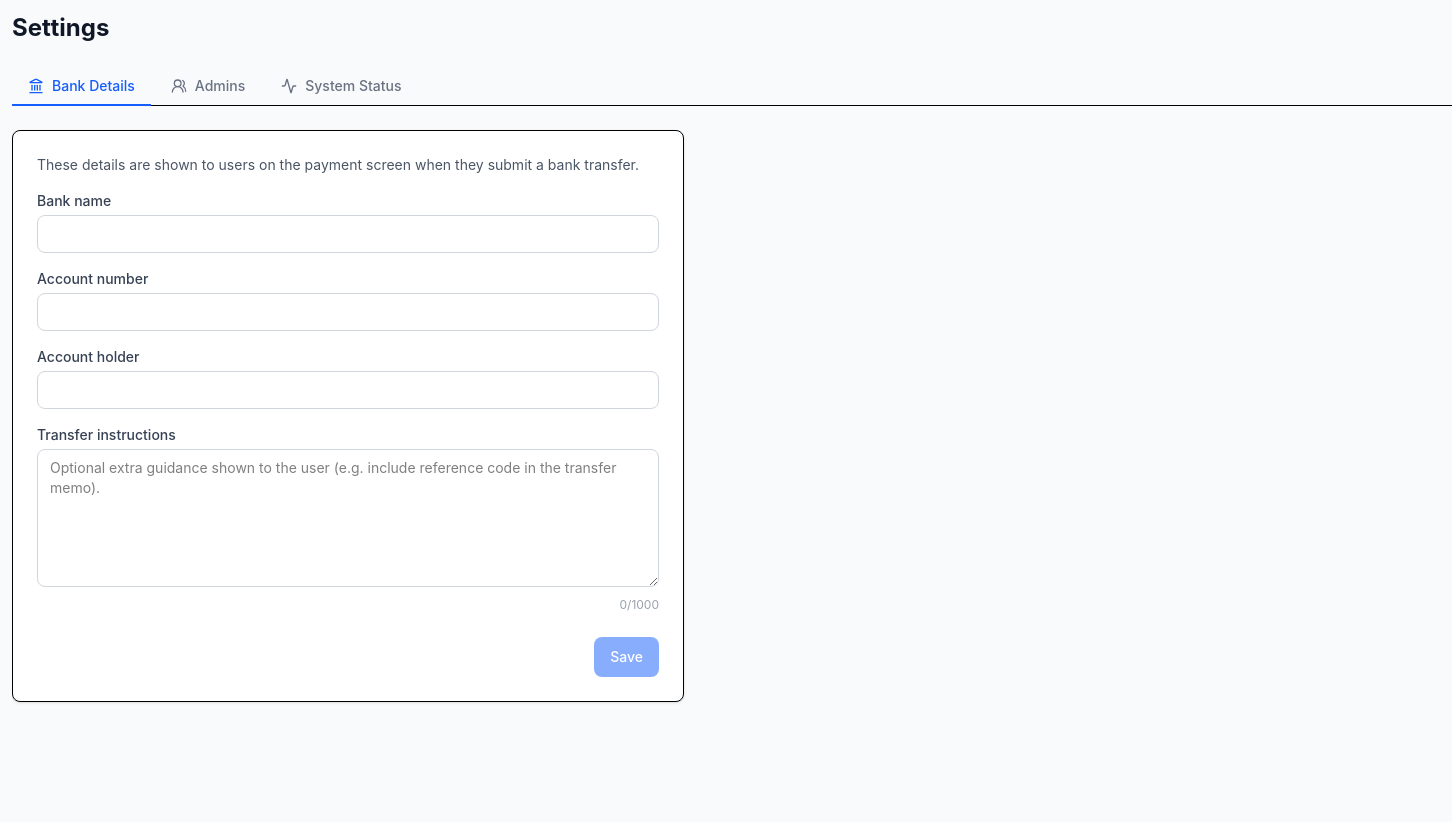
SettingsPage — FreeRADIUS card › omits the RADIUS line for an older backend without the probe
What coordinates should you click on to do the following:
click the button "System Status"
I would click on:
 (341, 87)
Its box is [265,68,418,106].
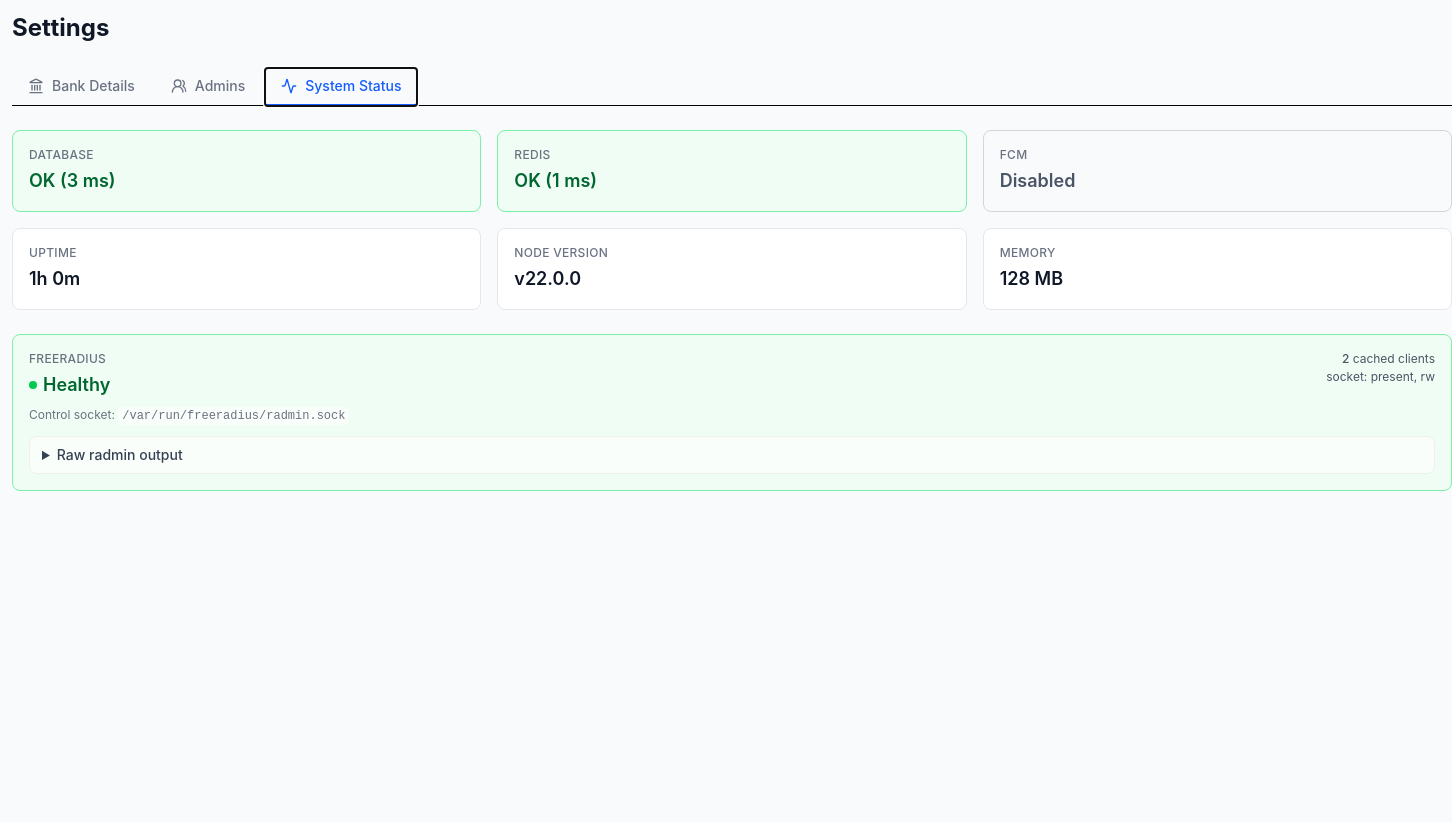
Now the text "FreeRADIUS" is shown, box [29,351,110,367]
Now the text "Healthy" is shown, box [29,371,110,399]
